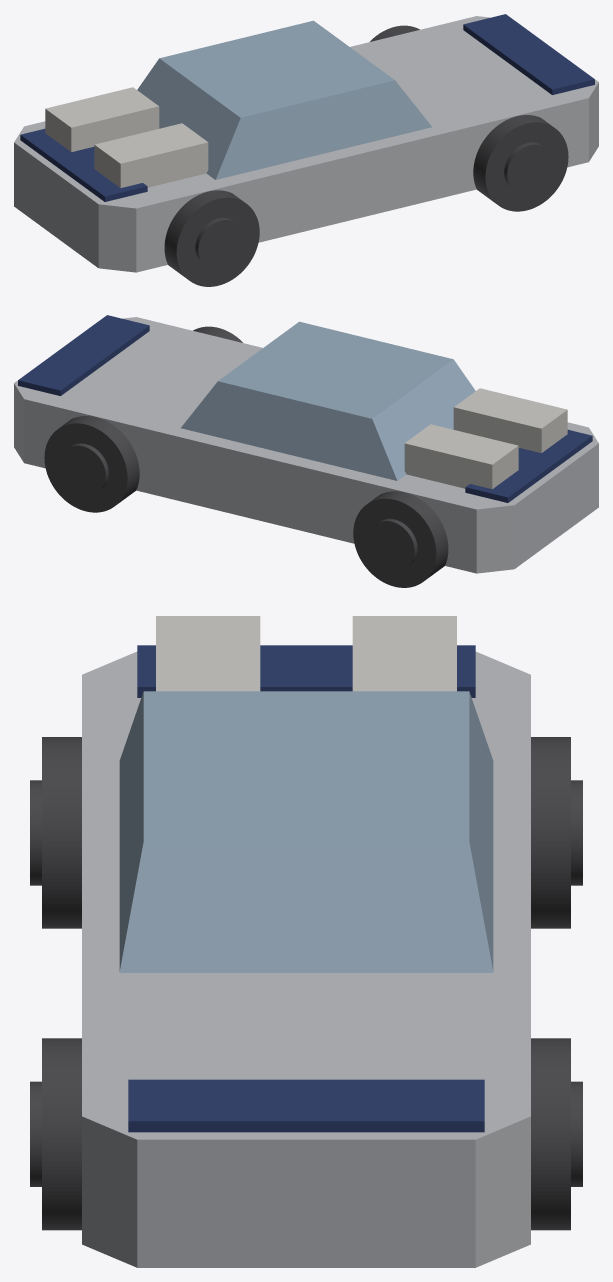
3 renders of one model, top to bottom at view 1: azimuth 30°, elevation 25°; view 2: azimuth 150°, elevation 25°; view 3: azimuth 270°, elevation 25°, orthographic. The views are drawn at different scales.
Visible parts, largest first — view 1: chassis, cabin, wheel_rr, wheel_fr, solar_hood, module_02, module_04, solar_deck, module_01, module_03; view 2: chassis, cabin, wheel_rl, wheel_fl, solar_hood, module_01, module_03, solar_deck, module_04, module_02; view 3: chassis, cabin, solar_hood, wheel_fl, wheel_fr, wheel_rl, wheel_rr, solar_deck, module_01, module_02, module_04, module_03.
Boxes of the visible parts, x1,y1,x2,y2 form: chassis: [14, 16, 598, 272]; cabin: [137, 20, 431, 179]; wheel_rr: [164, 190, 259, 286]; wheel_fr: [473, 115, 568, 211]; solar_hood: [463, 14, 594, 94]; module_02: [131, 123, 208, 185]; module_04: [94, 131, 173, 188]; solar_deck: [20, 128, 147, 201]; module_01: [80, 87, 159, 141]; module_03: [45, 100, 124, 151]; chassis: [14, 317, 598, 573]; cabin: [181, 321, 475, 480]; wheel_rl: [353, 491, 448, 587]; wheel_fl: [44, 416, 139, 512]; solar_hood: [18, 315, 149, 395]; module_01: [404, 424, 483, 486]; module_03: [439, 432, 518, 489]; solar_deck: [465, 429, 592, 502]; module_04: [488, 401, 567, 452]; module_02: [453, 388, 532, 442]; chassis: [82, 651, 530, 1267]; cabin: [119, 691, 493, 972]; solar_hood: [128, 1079, 484, 1132]; wheel_fl: [531, 1038, 582, 1230]; wheel_fr: [30, 1038, 81, 1230]; wheel_rl: [531, 737, 582, 928]; wheel_rr: [30, 737, 81, 928]; solar_deck: [137, 645, 475, 697]; module_01: [352, 649, 456, 691]; module_02: [156, 649, 260, 691]; module_04: [156, 616, 260, 667]; module_03: [352, 616, 456, 667].
Size of the model in its own units: 9.4 by 2.47 by 4.5.
